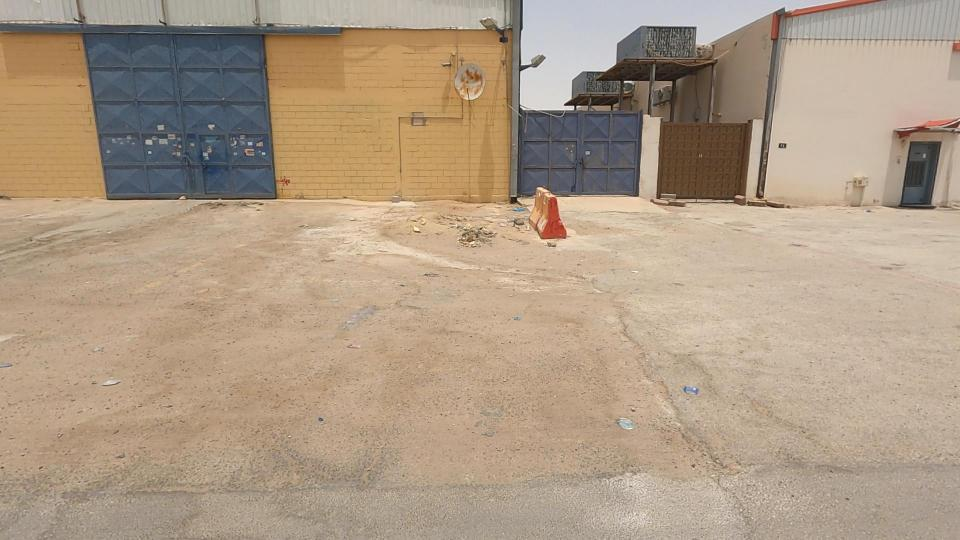GARBAGE: (413, 204, 523, 277), (62, 347, 150, 411), (641, 364, 736, 419), (476, 187, 551, 232), (593, 398, 654, 448)
